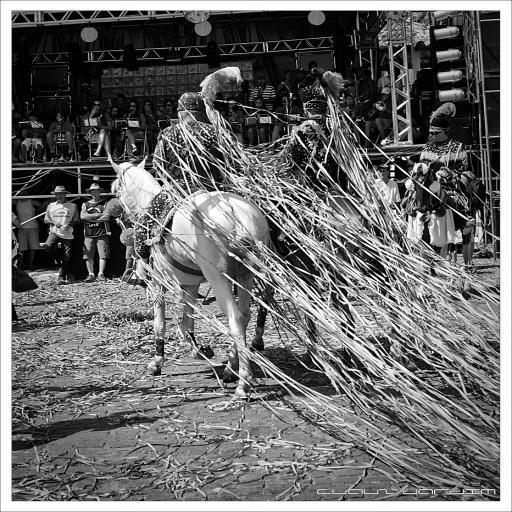horse: (106, 149, 271, 405)
